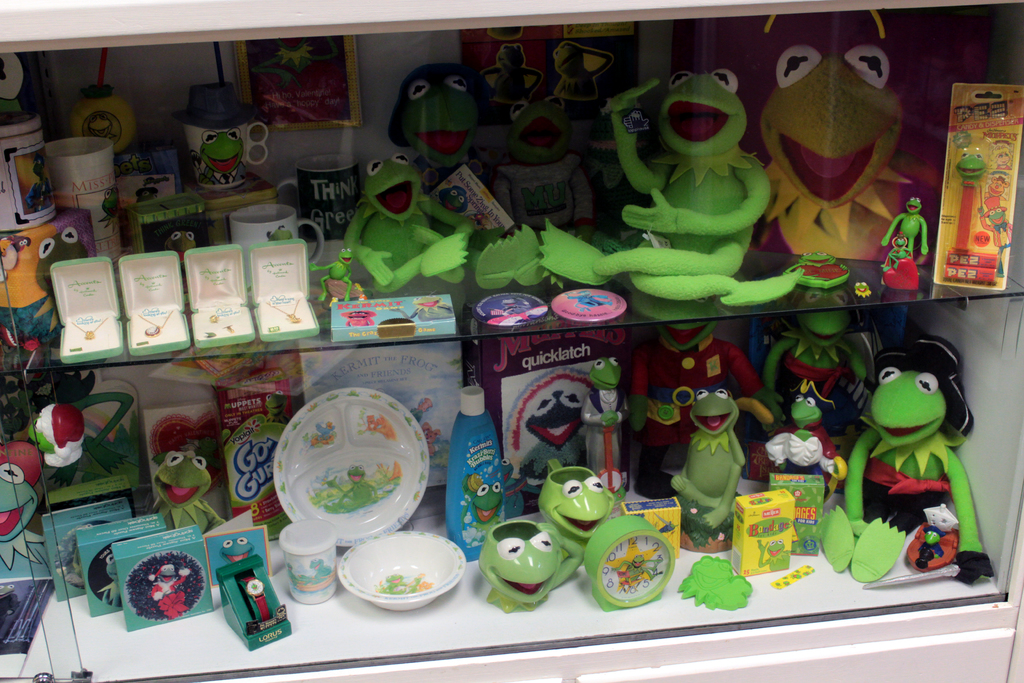plate: (264, 381, 435, 556)
